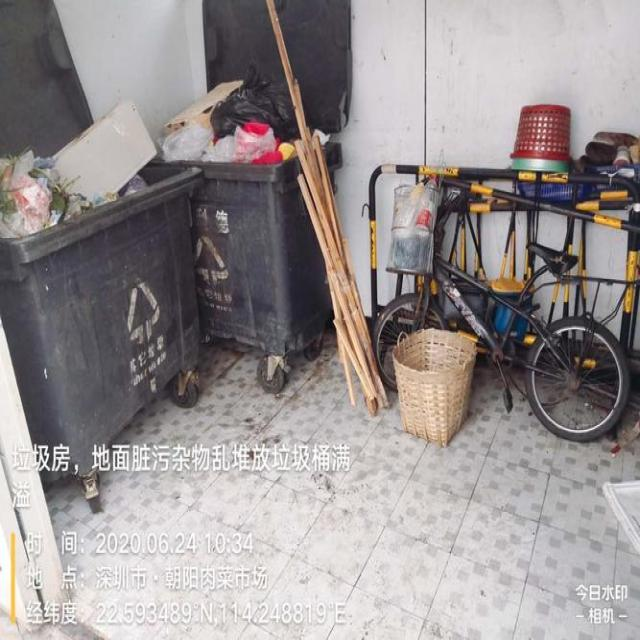overflow: (0, 98, 203, 474), (158, 80, 342, 353)
